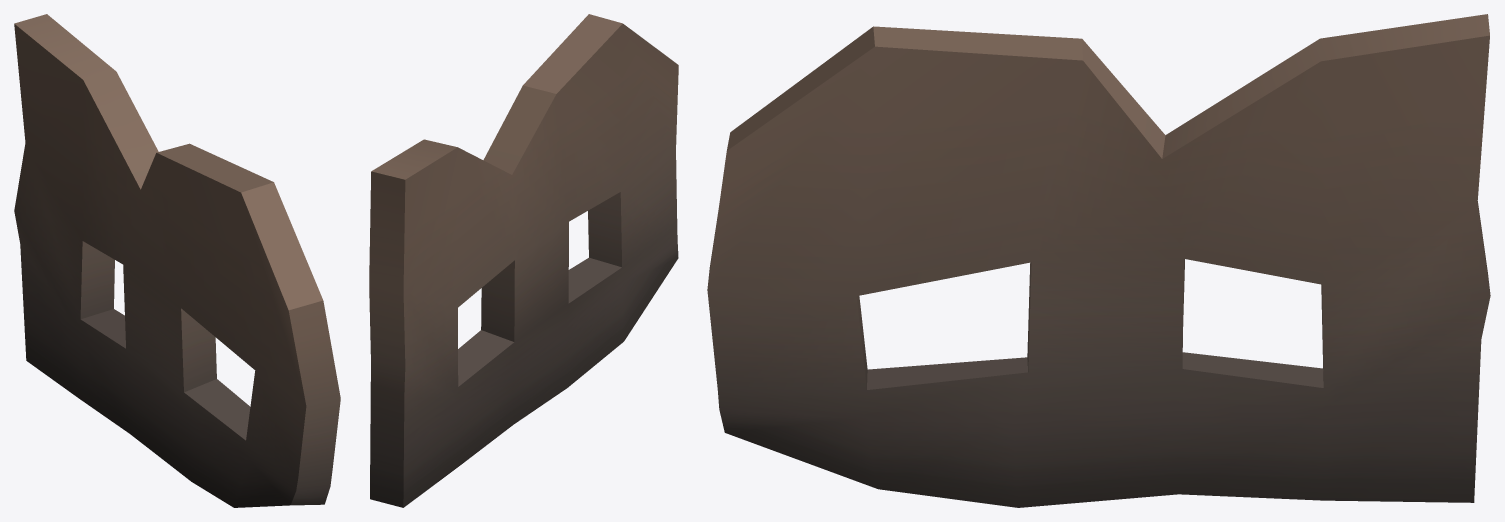
Rendered from Building_T011.fbx.
The picture shows the model from 3 angles, left to right: view 1: azimuth 30°, elevation 25°; view 2: azimuth 150°, elevation 25°; view 3: azimuth 270°, elevation 25°; orthographic projection. The views are drawn at different scales.
Visible parts, largest first — view 1: Building_T011; view 2: Building_T011; view 3: Building_T011.
Boxes of the visible parts, left/top/right/bottom form: Building_T011: left=14, top=14, right=340, bottom=507; Building_T011: left=369, top=14, right=678, bottom=507; Building_T011: left=707, top=14, right=1490, bottom=507.
Size of the model in its own units: 2.1 by 13.39 by 20.32.
